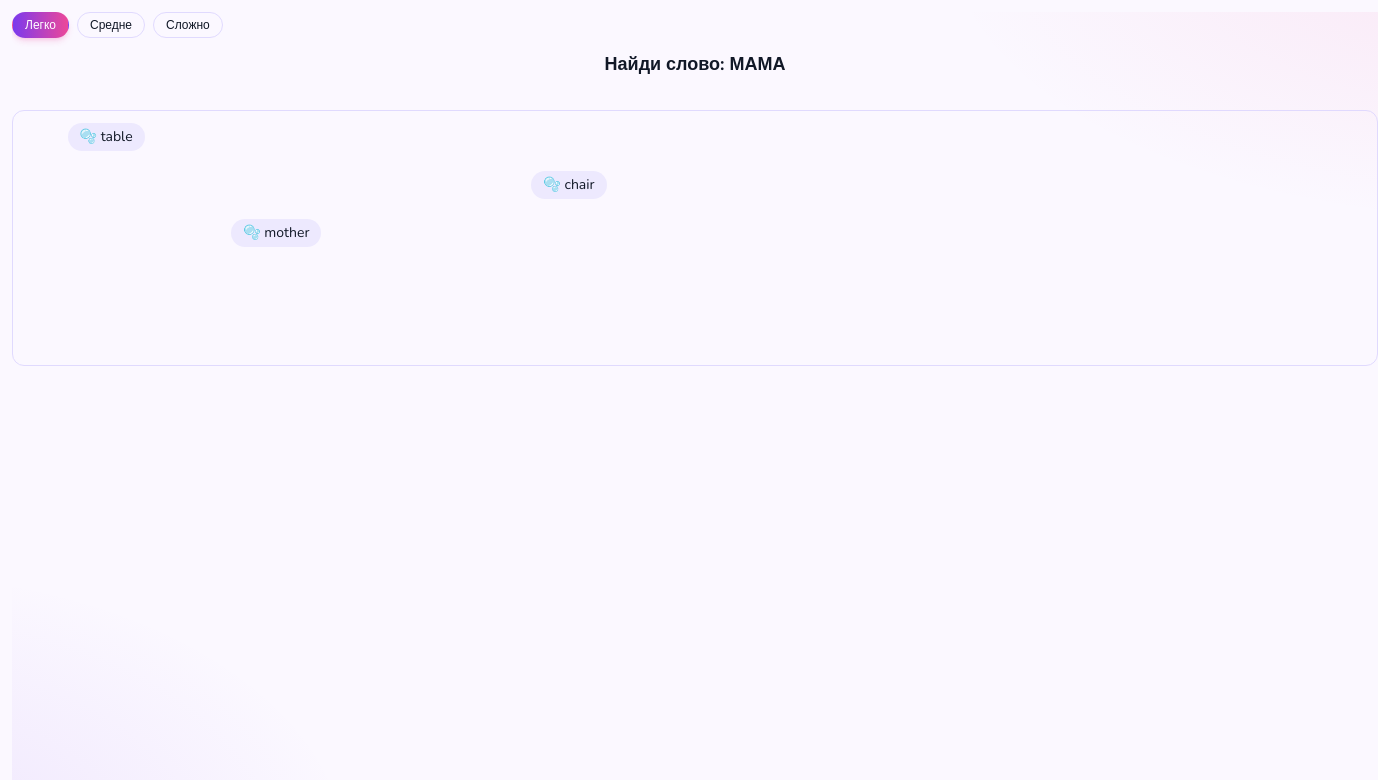
FloatingWords › asks to try again on a wrong bubble and stays on the word
Click the button "🫧 chair" at (569, 185), box [531,171,606,199]
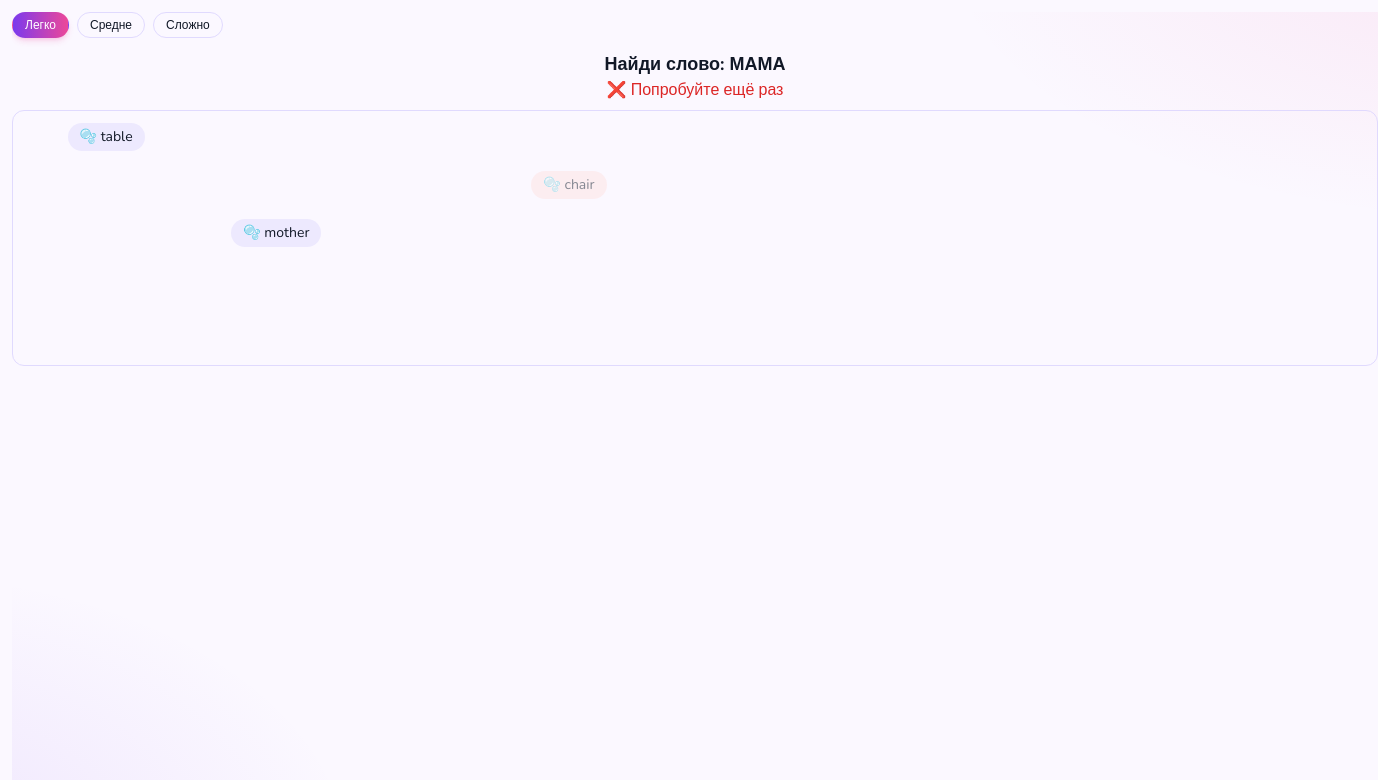
Result: the text "❌ Попробуйте ещё раз" is shown at [606,79,783,101]
